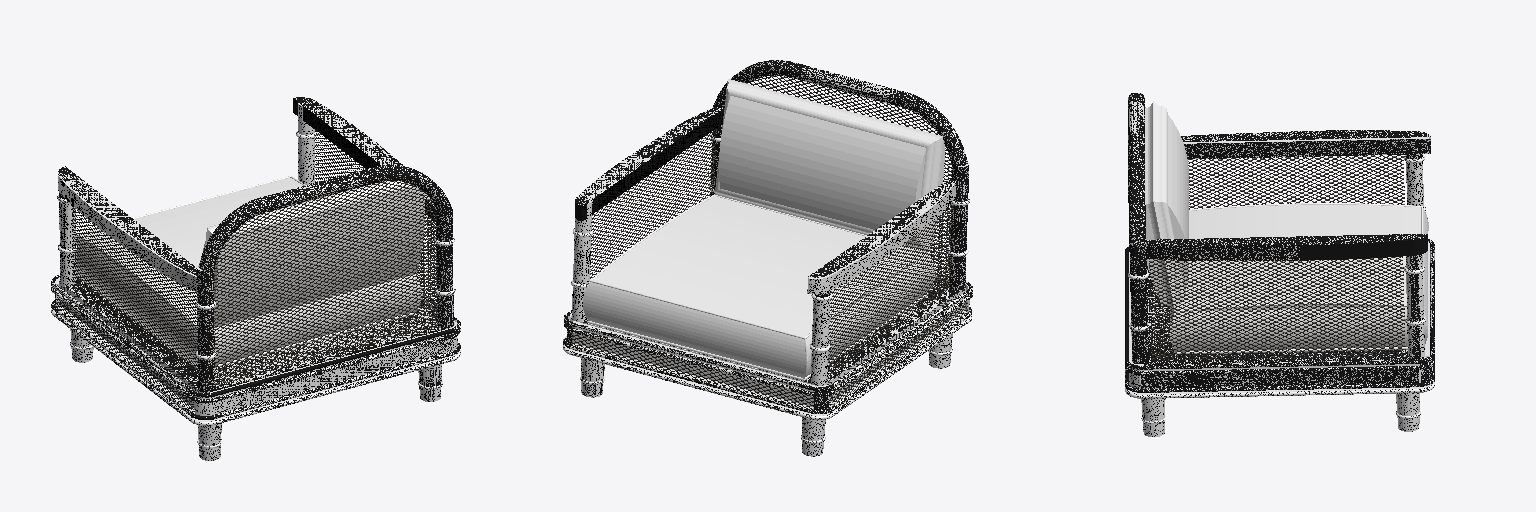
3 renders of one model, left to right at view 1: azimuth 30°, elevation 25°; view 2: azimuth 150°, elevation 25°; view 3: azimuth 270°, elevation 25°, orthographic.
Visible parts, largest first — view 1: mesh34_mesh34-geometry, mesh1_mesh1-geometry, mesh31_mesh31-geometry, mesh33_mesh33-geometry, mesh36_mesh36-geometry, mesh41_mesh41-geometry; view 2: mesh34_mesh34-geometry, mesh1_mesh1-geometry, mesh31_mesh31-geometry, mesh33_mesh33-geometry, mesh41_mesh41-geometry; view 3: mesh34_mesh34-geometry, mesh1_mesh1-geometry, mesh41_mesh41-geometry, mesh31_mesh31-geometry, mesh33_mesh33-geometry.
Boxes of the visible parts, box(x1,y1,x2,y2) form: mesh34_mesh34-geometry: box(51, 97, 460, 419); mesh1_mesh1-geometry: box(77, 176, 422, 367); mesh31_mesh31-geometry: box(203, 172, 424, 327); mesh33_mesh33-geometry: box(51, 310, 460, 460); mesh36_mesh36-geometry: box(194, 322, 457, 415); mesh41_mesh41-geometry: box(315, 131, 436, 315); mesh34_mesh34-geometry: box(563, 60, 972, 413); mesh1_mesh1-geometry: box(583, 194, 935, 380); mesh31_mesh31-geometry: box(715, 79, 944, 251); mesh33_mesh33-geometry: box(563, 315, 971, 456); mesh41_mesh41-geometry: box(590, 128, 716, 278); mesh34_mesh34-geometry: box(1125, 93, 1434, 392); mesh1_mesh1-geometry: box(1170, 203, 1427, 354); mesh41_mesh41-geometry: box(1149, 257, 1405, 360); mesh31_mesh31-geometry: box(1145, 101, 1188, 309); mesh33_mesh33-geometry: box(1125, 381, 1434, 436).
Bounding box in the file's own units: 0.5948 × 0.5411 × 0.5945.
Materials: 6 (1 with a texture image).